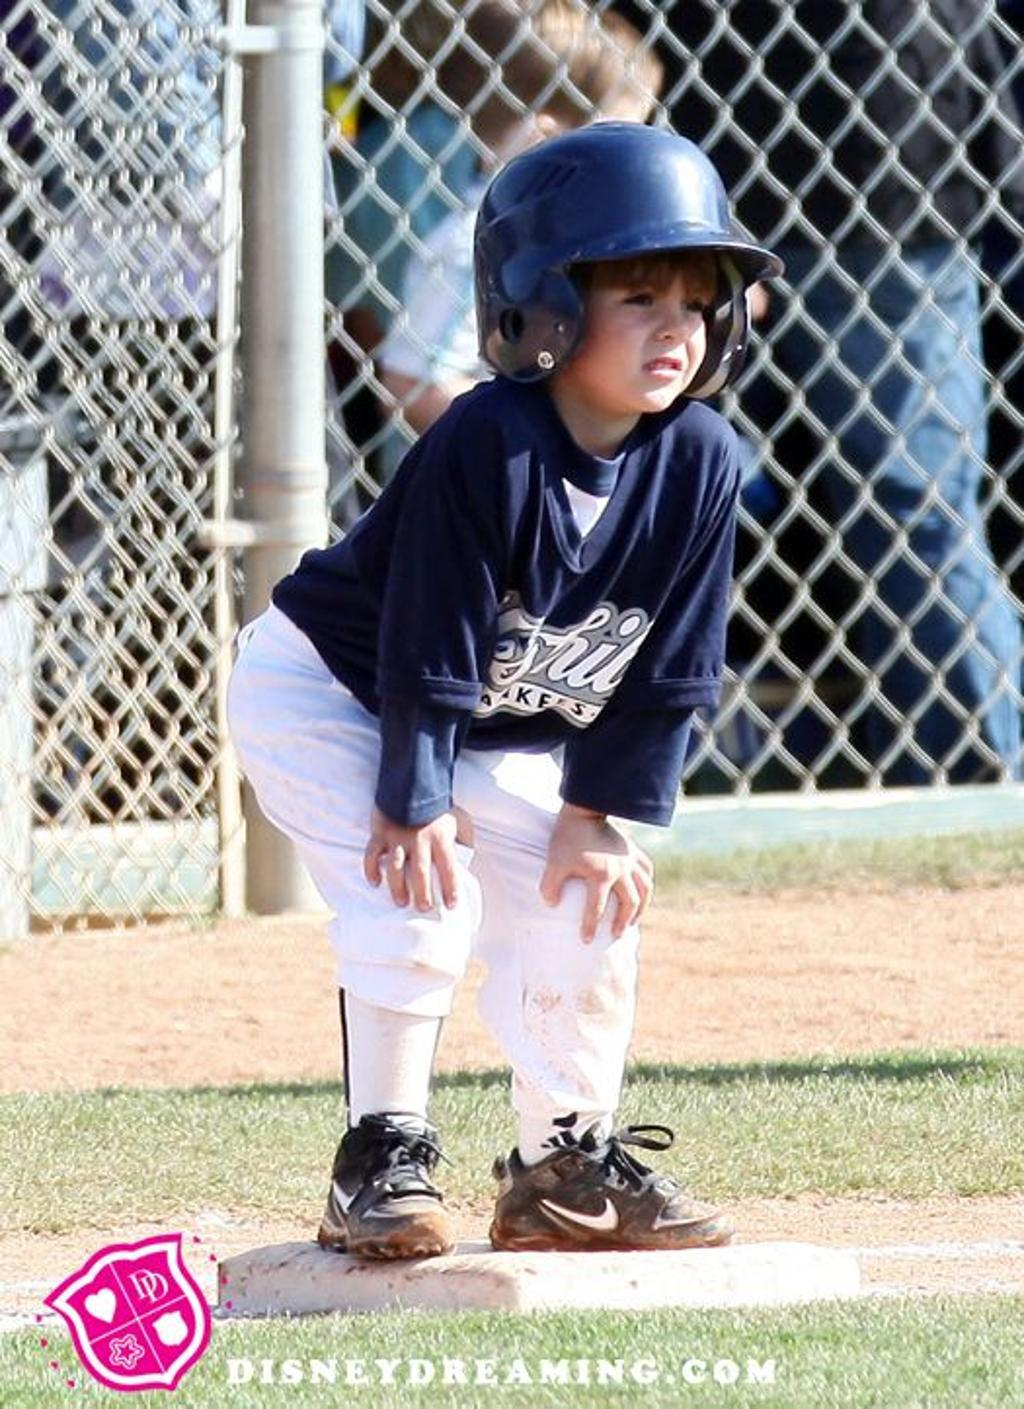face: (576, 246, 711, 414)
